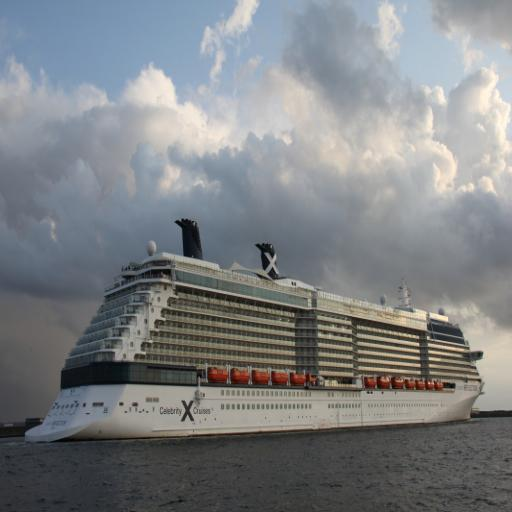cruises: (22, 213, 487, 451)
